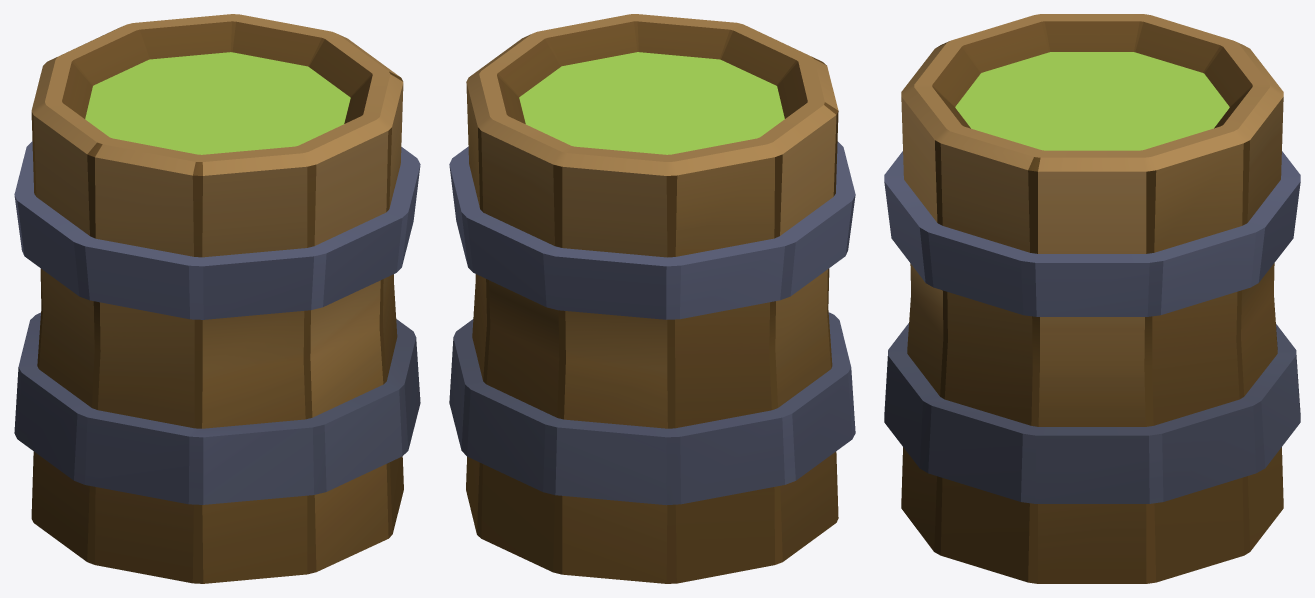
Rendered from factory-goo-tanks.obj.
3 renders of one model, left to right at view 1: azimuth 30°, elevation 25°; view 2: azimuth 150°, elevation 25°; view 3: azimuth 270°, elevation 25°, orthographic.
Parts seen in each view (by area): view 1: factory-goo-tanks; view 2: factory-goo-tanks; view 3: factory-goo-tanks.
Part boxes in pixels (x1=…): factory-goo-tanks: x1=14, y1=14, x2=420, y2=583; factory-goo-tanks: x1=449, y1=14, x2=855, y2=583; factory-goo-tanks: x1=884, y1=14, x2=1300, y2=583.
Size of the model in its own units: 0.784 by 0.9074 by 0.8149.
Materials: 1 (1 with a texture image).
